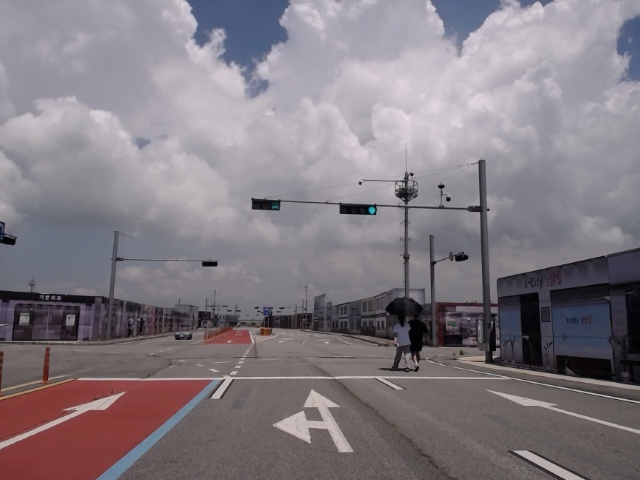straight_green_4: (341, 204, 377, 214)
